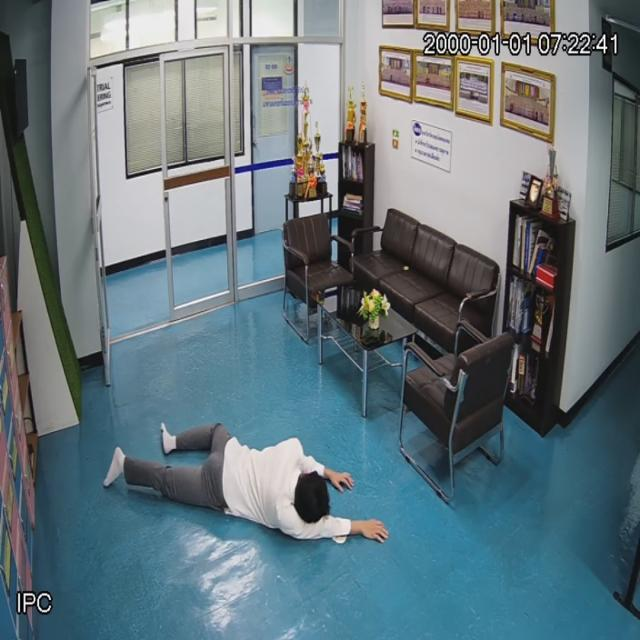fall: (97, 413, 376, 551)
